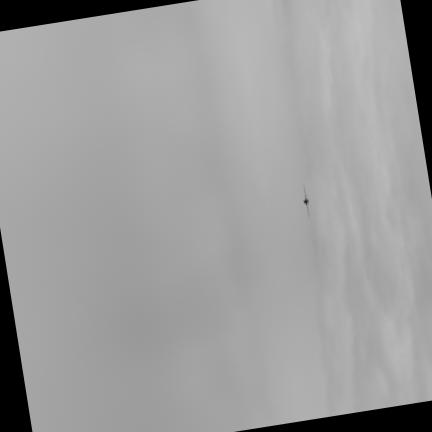Shahed: (303, 185, 308, 217)
